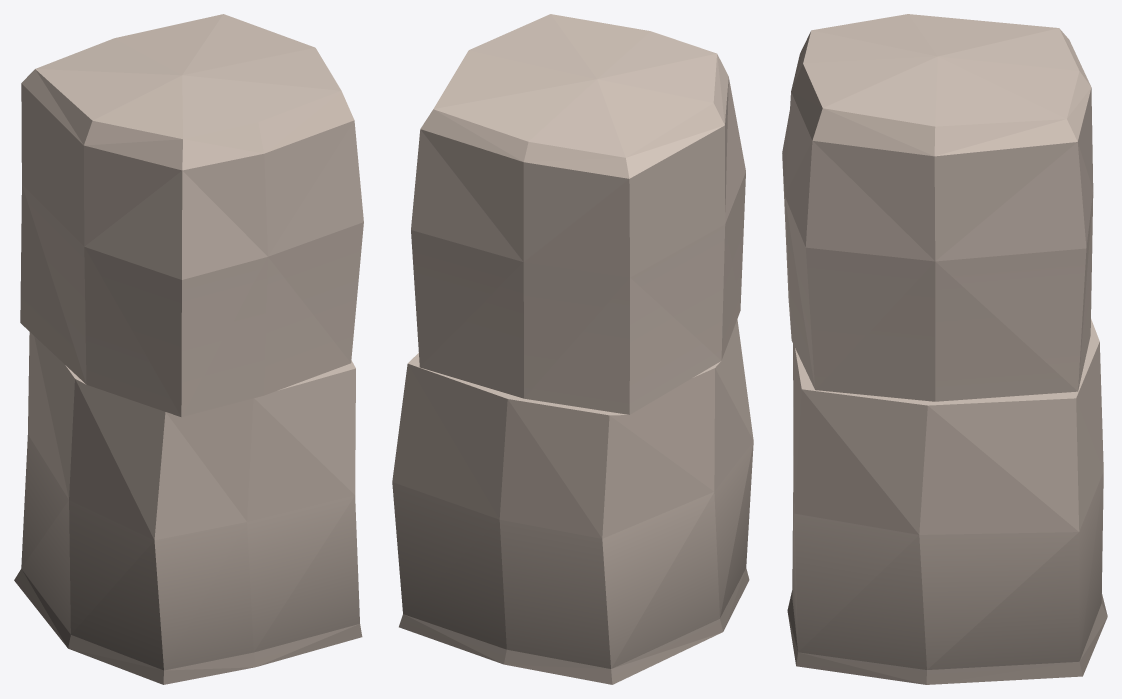
File: RockZ_City_Pillar_A.fbx
The picture shows the model from 3 angles, left to right: view 1: azimuth 30°, elevation 25°; view 2: azimuth 150°, elevation 25°; view 3: azimuth 270°, elevation 25°; orthographic projection. The views are drawn at different scales.
Visible parts, largest first — view 1: RockZ_City_Pillar_A; view 2: RockZ_City_Pillar_A; view 3: RockZ_City_Pillar_A.
Boxes of the visible parts, x1,y1,x2,y2 form: RockZ_City_Pillar_A: [14, 14, 363, 684]; RockZ_City_Pillar_A: [392, 14, 753, 684]; RockZ_City_Pillar_A: [782, 14, 1107, 684].
Bounding box in the file's own units: 2.62 × 4.99 × 2.66.
